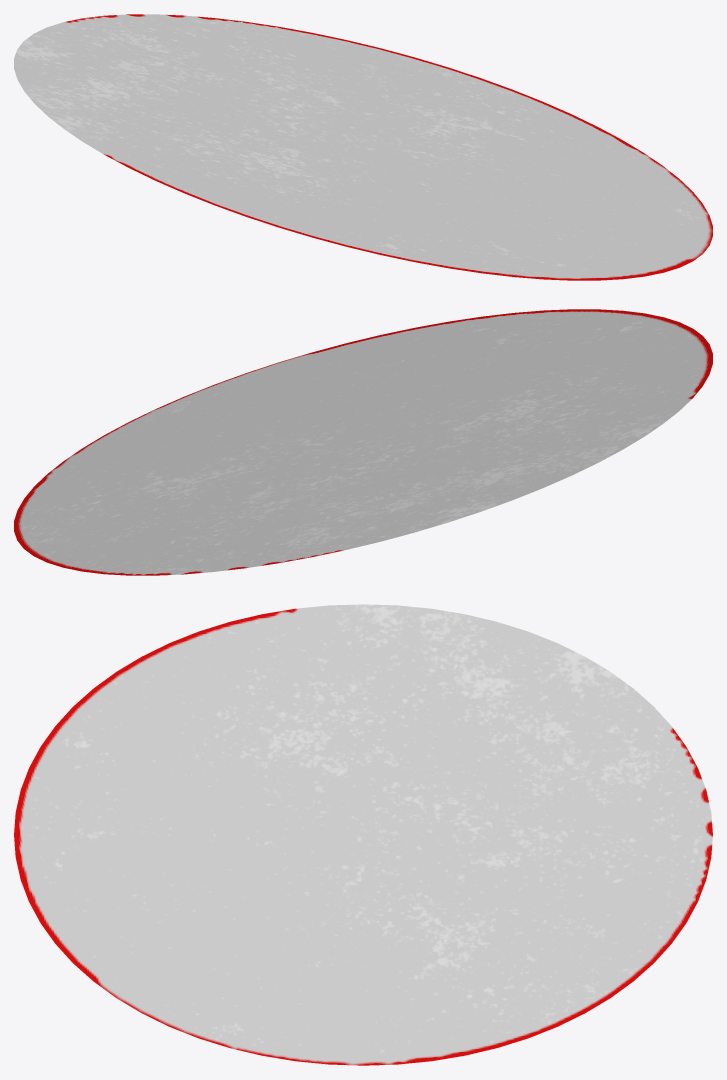
File: drumsetV4_DrumTop002.obj
The picture shows the model from 3 angles, top to bottom: view 1: azimuth 30°, elevation 25°; view 2: azimuth 150°, elevation 25°; view 3: azimuth 270°, elevation 25°; orthographic projection. The views are drawn at different scales.
Visible parts, largest first — view 1: drumsetV4_DrumTop002_Cylinder.032; view 2: drumsetV4_DrumTop002_Cylinder.032; view 3: drumsetV4_DrumTop002_Cylinder.032.
Boxes of the visible parts, bbox=[...] form: drumsetV4_DrumTop002_Cylinder.032: bbox=[14, 14, 712, 280]; drumsetV4_DrumTop002_Cylinder.032: bbox=[14, 309, 712, 575]; drumsetV4_DrumTop002_Cylinder.032: bbox=[14, 604, 712, 1065].
Size of the model in its own units: 0.94 by 0.2749 by 0.9794.
